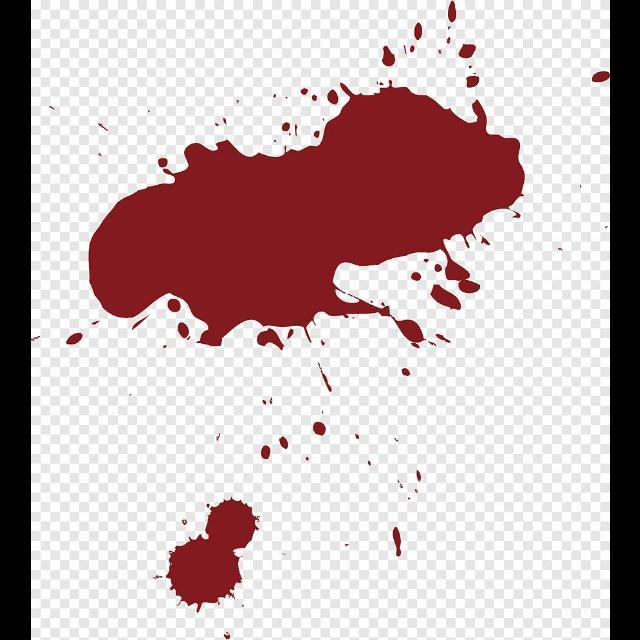blood: (87, 79, 524, 348), (165, 496, 259, 613)
